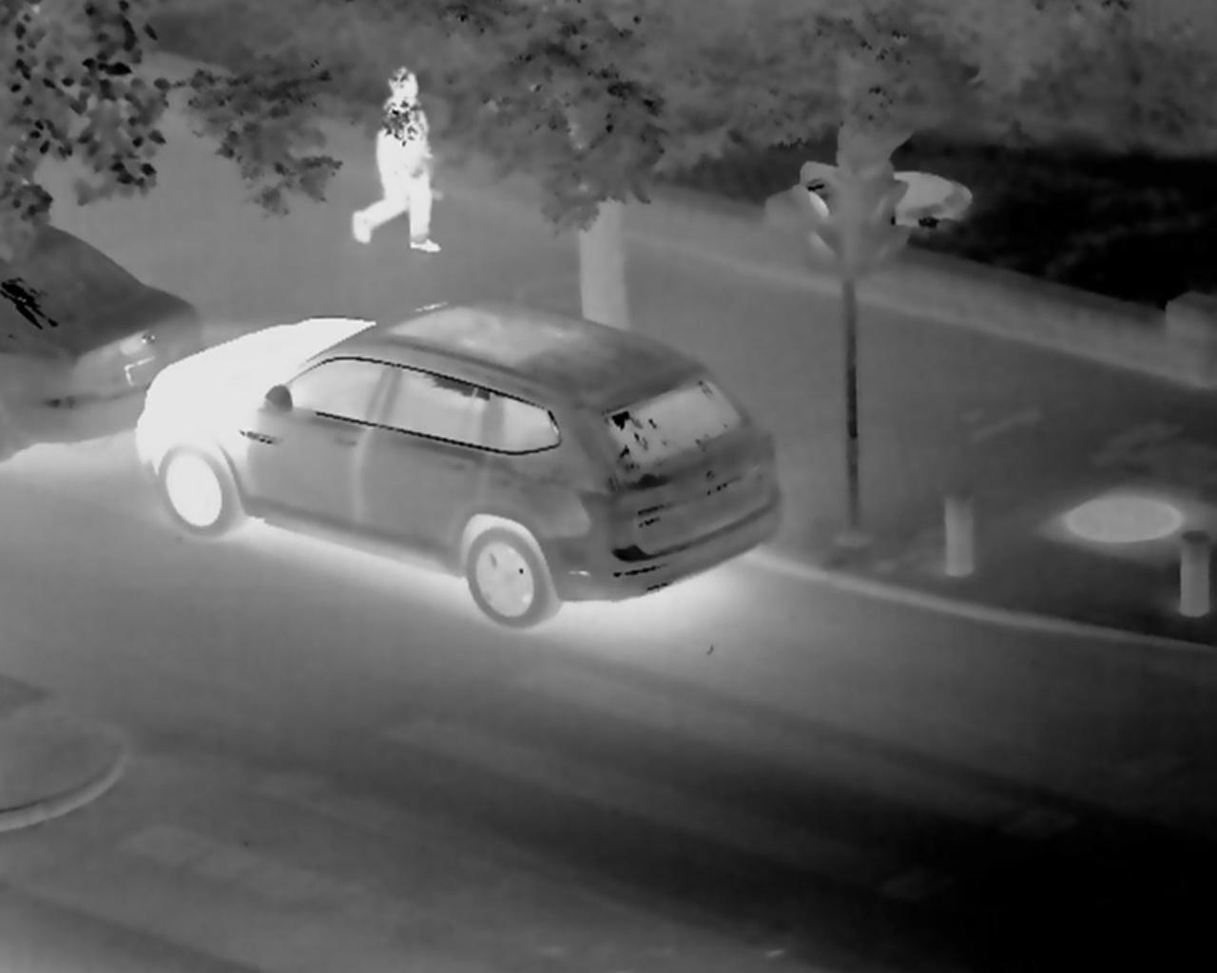person: (362, 74, 457, 259)
